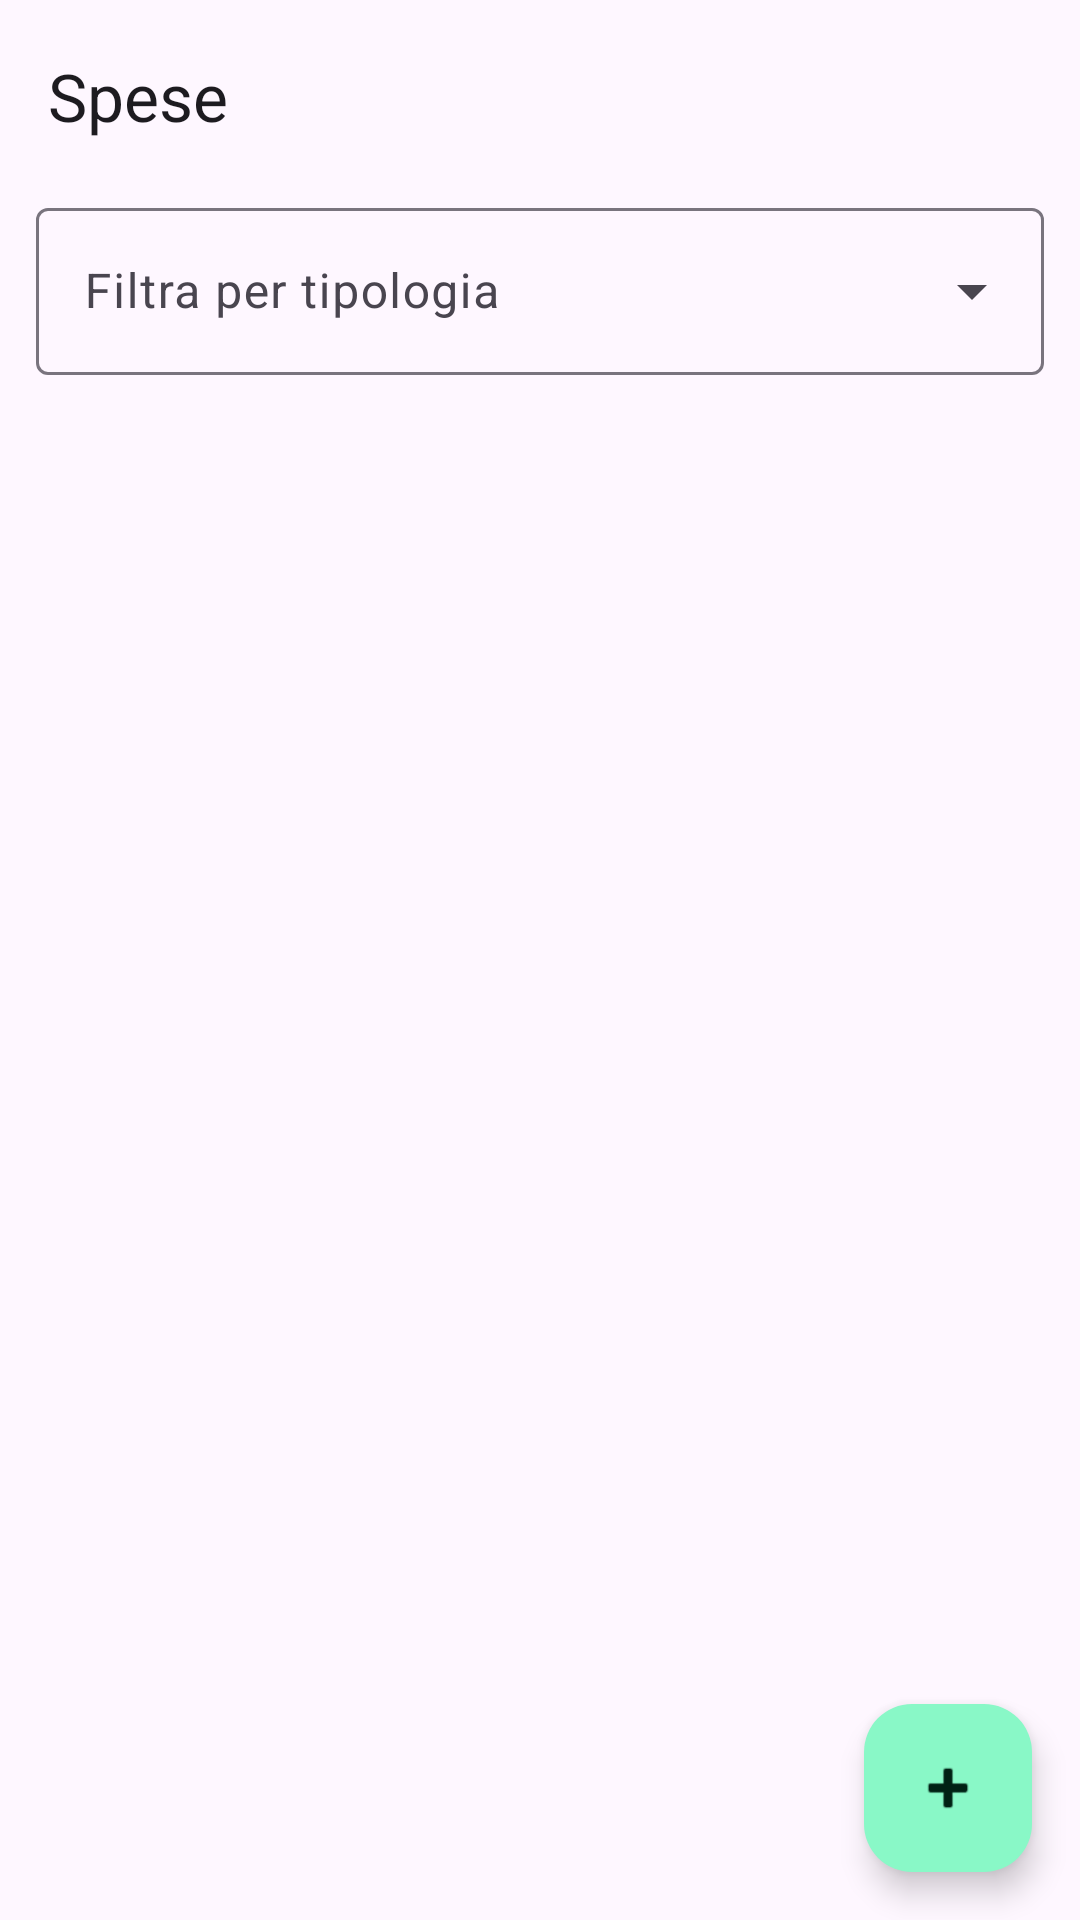

Screen size 1080px x 1920px. Icon name, then its center in pixels as [x,y]:
Aggiungi bolletta: [948,1788]
